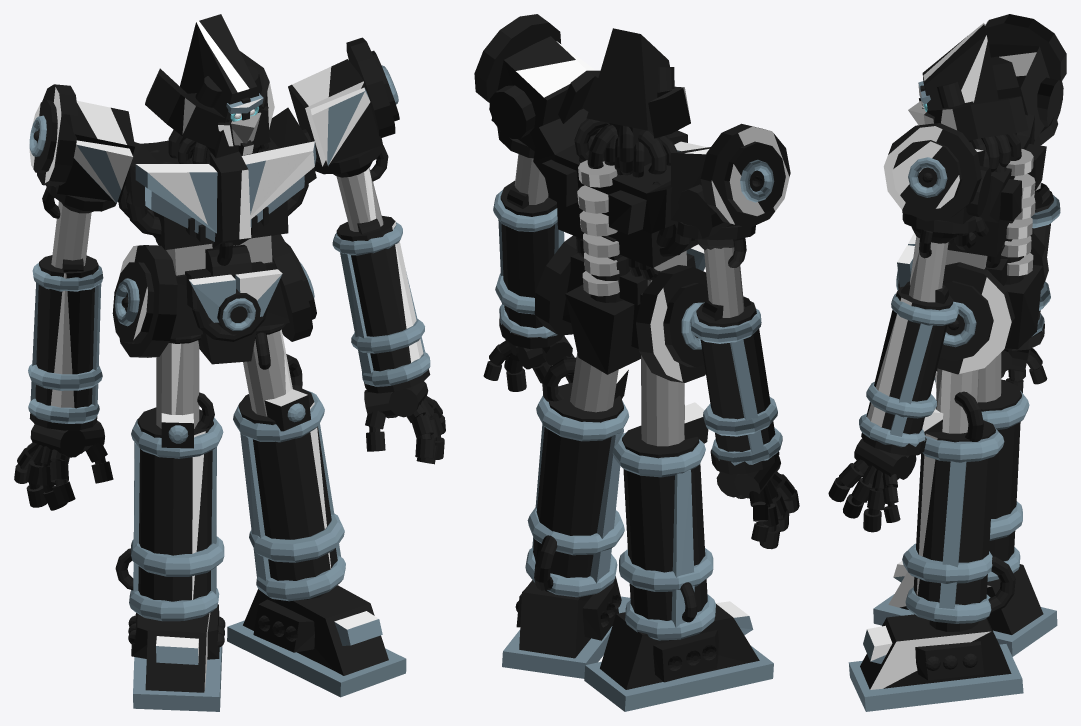
Rendered from Super Robot.glb.
The picture shows the model from 3 angles, left to right: view 1: azimuth 30°, elevation 25°; view 2: azimuth 150°, elevation 25°; view 3: azimuth 270°, elevation 25°; orthographic projection. The views are drawn at different scales.
Visible parts, largest first — view 1: Node; view 2: Node; view 3: Node.
Part boxes in pixels (x1,y1,x2,y2): Node: (14, 14, 445, 711); Node: (474, 14, 799, 711); Node: (828, 14, 1066, 711).
Bounding box in the file's own units: 1.02 × 1.76 × 0.6137.
